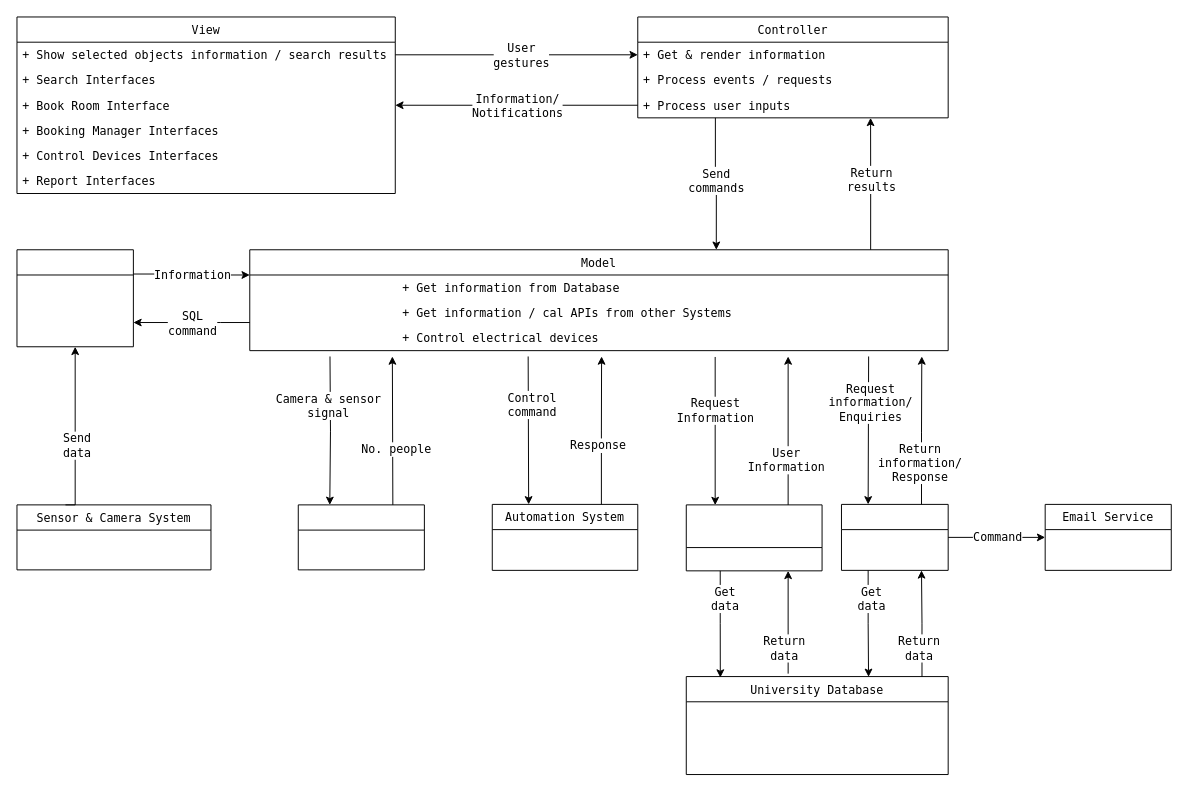
Some shapes in this 1188 by 792 pixel diagram are drawn without their labels. Here are the shapes that lost their labels. From the top down, the centre of each, then its label:
At (74,298): "SCAMS Database".
At (360,537): "AI Service".
At (753,537): "User Management System".
At (894,536): "ROM System".
